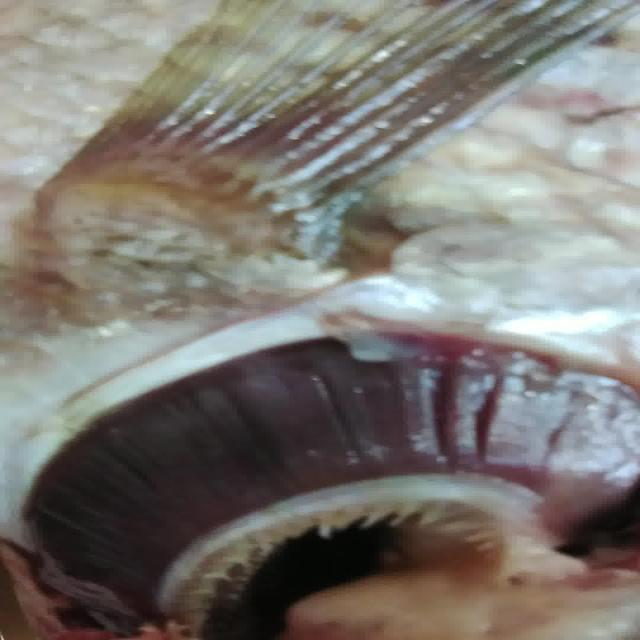Non-Fresh: (26, 304, 638, 626)
